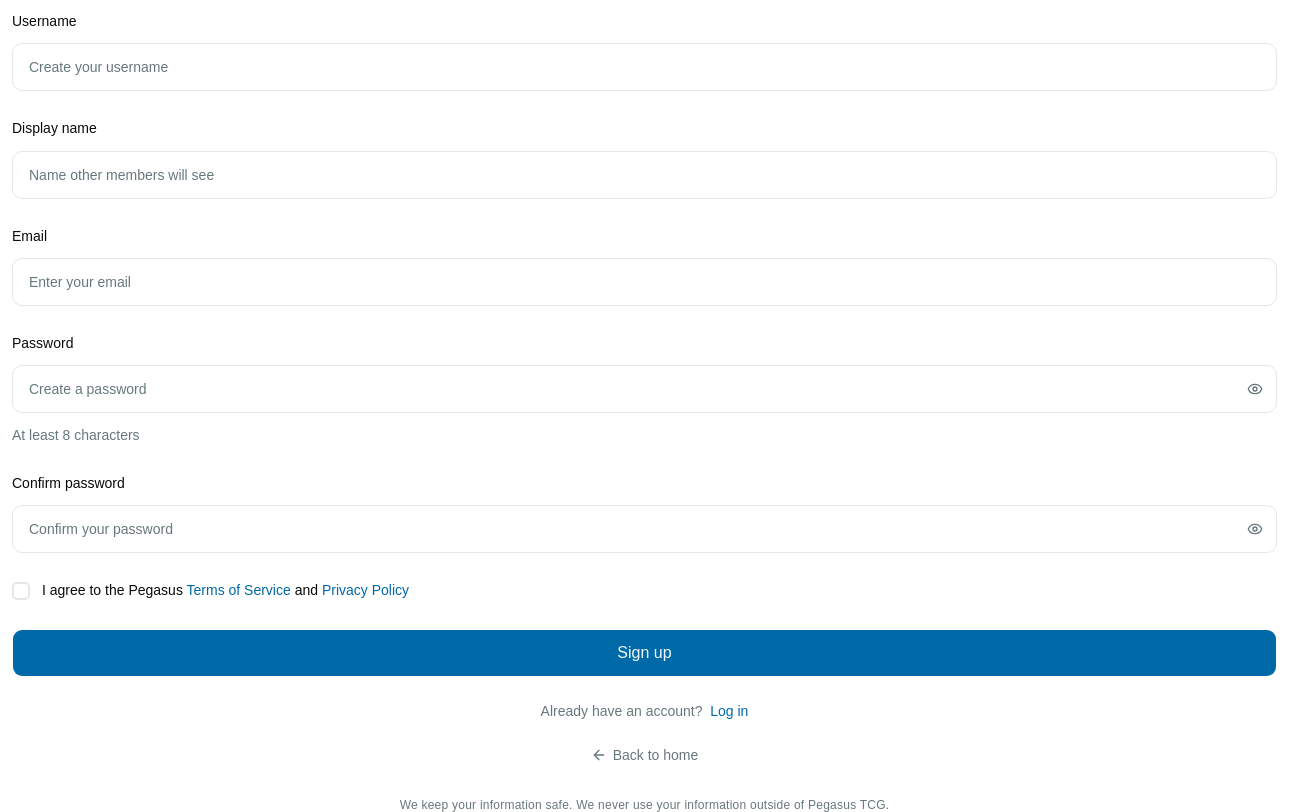
Test: RegisterForm › toggles password and confirmation independently without submitting
This screenshot has width=1292, height=812.
Type "password123" into the password field labelled "Password". click: (644, 389)
box: [12, 365, 1277, 413]
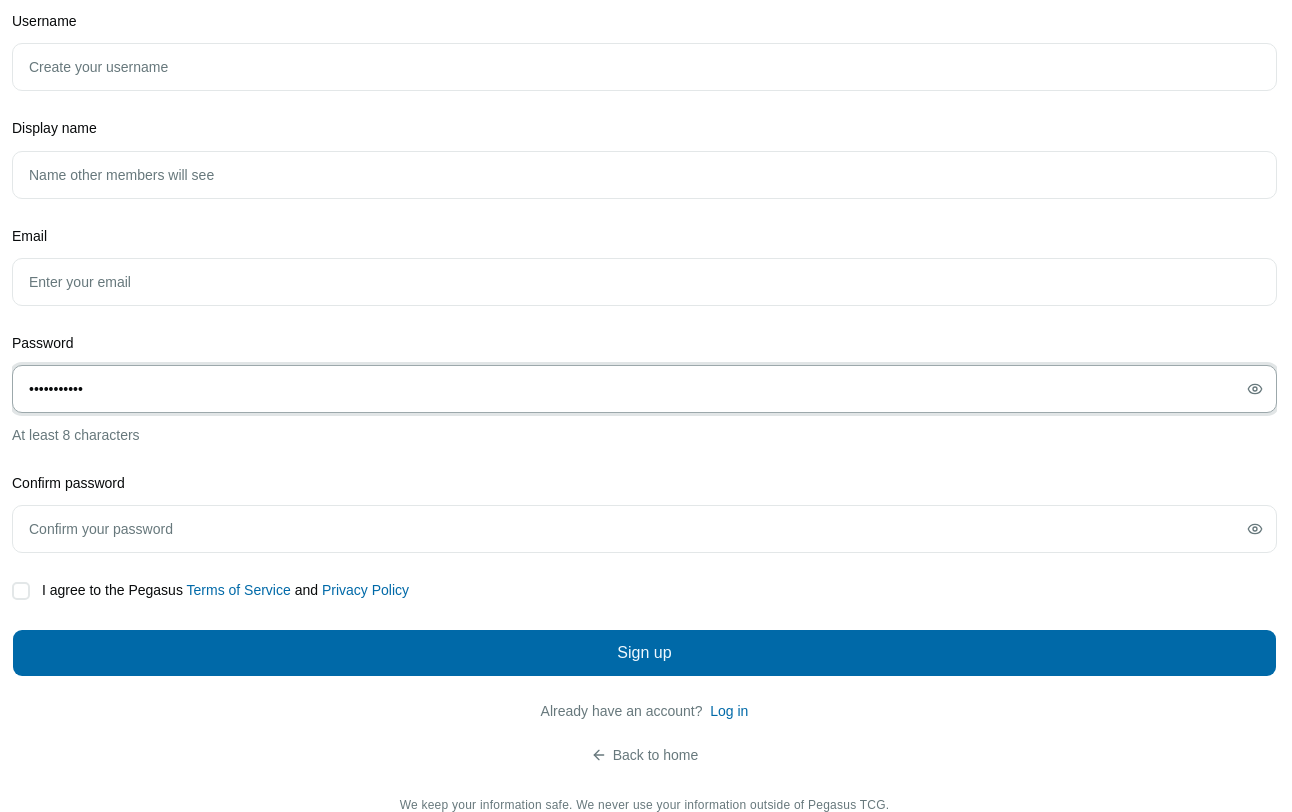
Type "password123" into the password field labelled "Confirm password". click: (644, 529)
box: [12, 505, 1277, 553]
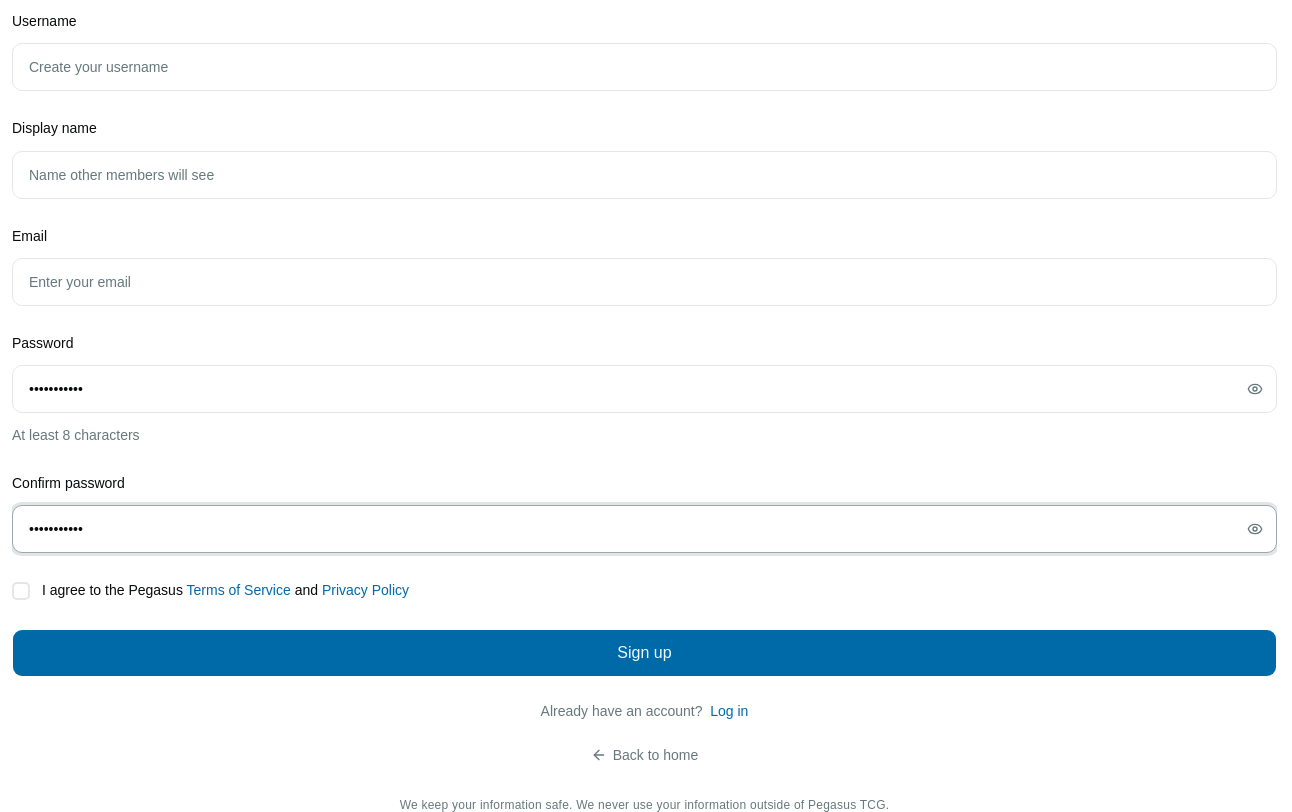
Click the 1st button named "Show password". click: (1255, 389)
box: [1237, 365, 1273, 413]
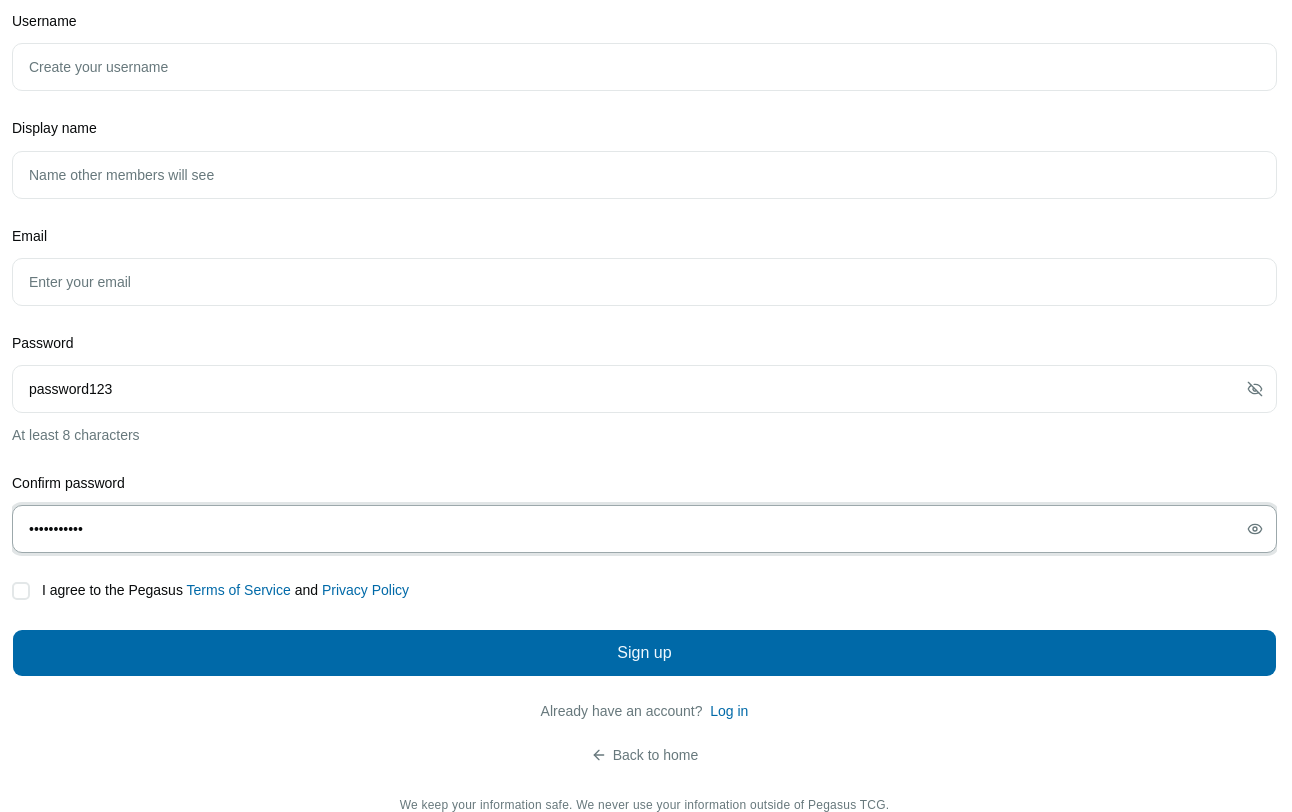
Expected: the field labelled "Password" shows its text, [12, 365, 1277, 413]
Click the button named "Show password". click: (1255, 529)
box: [1237, 505, 1273, 553]
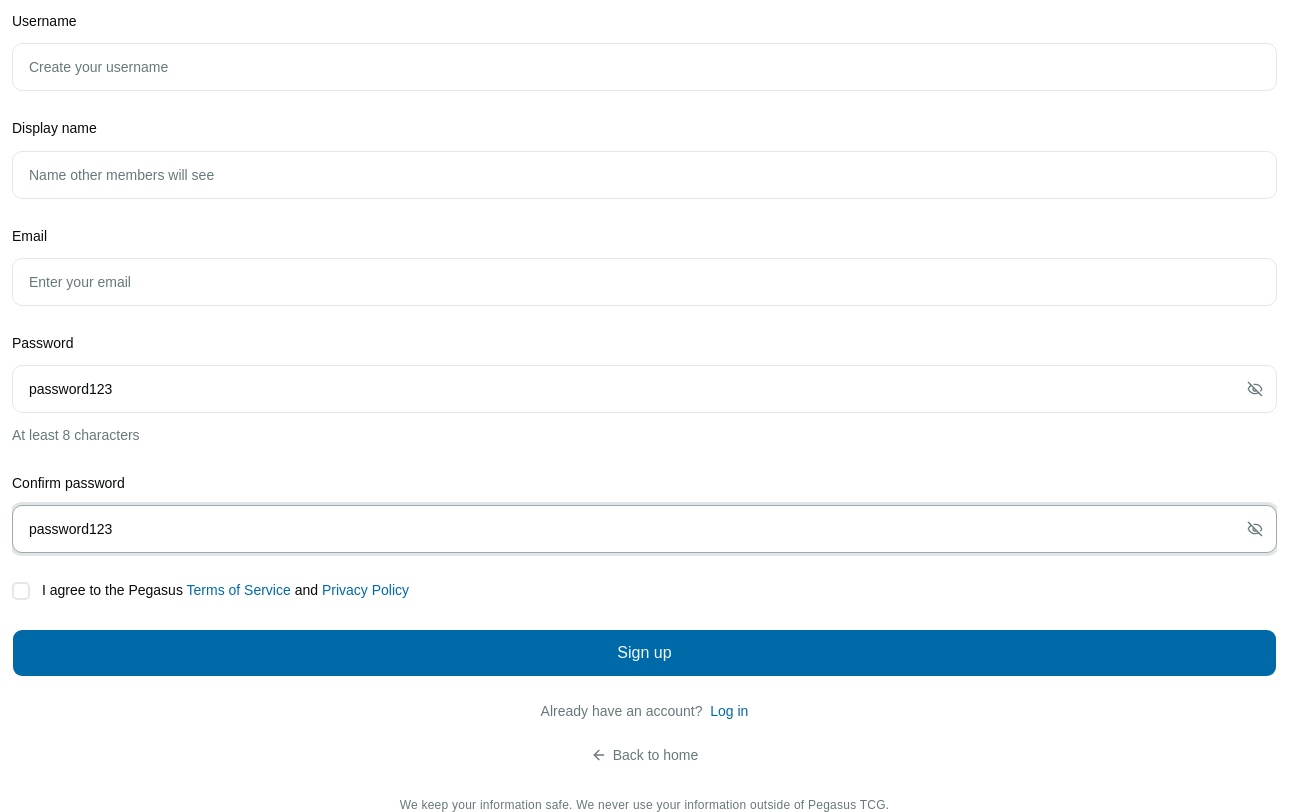
Click the 1st button named "Show password". click: (1255, 389)
box: [1237, 365, 1273, 413]
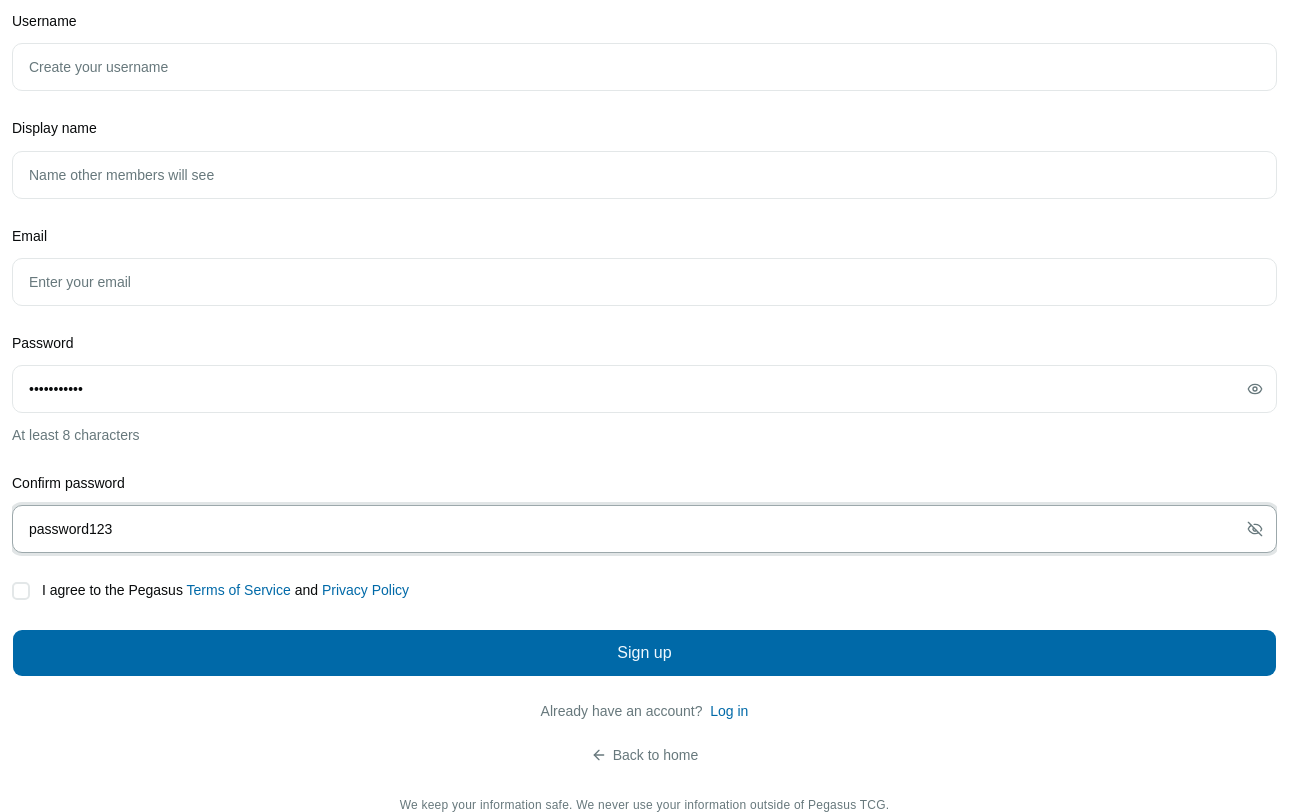
Expected: the field labelled "Confirm password" shows its text, [12, 505, 1277, 553]
Expected: the password field labelled "Password" hides its text, [12, 365, 1277, 413]
